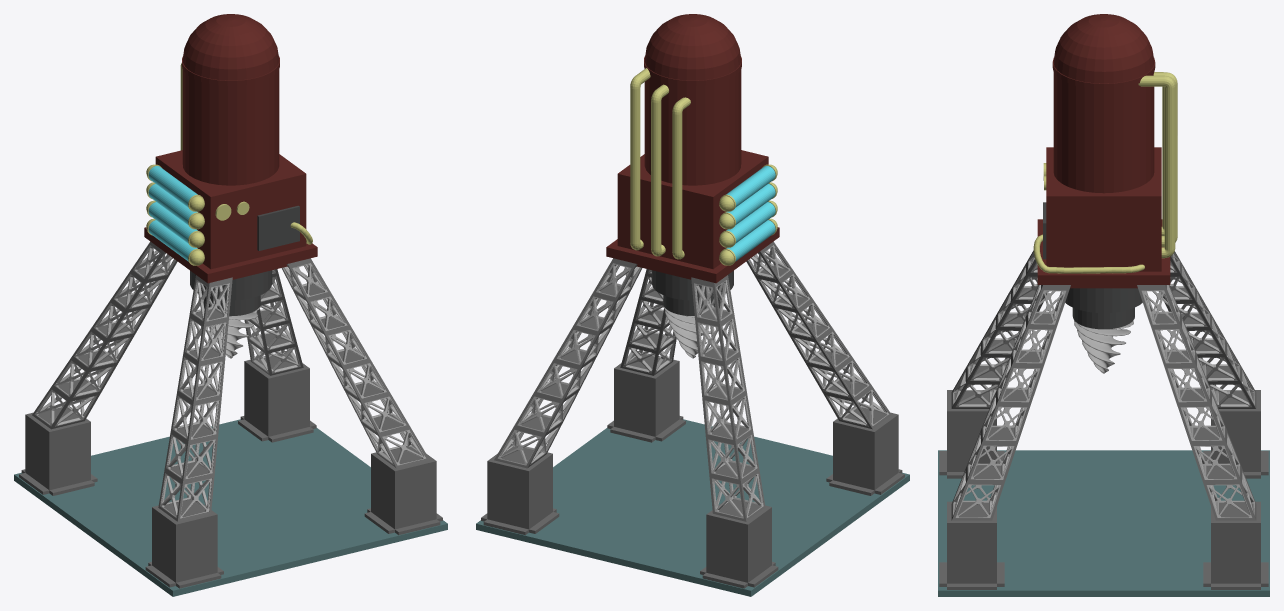
The model's file is ExtracteurFixe.fbx.
3 views of the same model, side by side, from view 1: azimuth 30°, elevation 25°; view 2: azimuth 150°, elevation 25°; view 3: azimuth 270°, elevation 25° (orthographic). The views are drawn at different scales.
Visible parts, largest first — view 1: Soutien, Plateau, Armature, Tank, Corp, Bombones, panneau, Piston-1, Foret; view 2: Soutien, Plateau, Armature, Tank, Corp, Tuyaux.001, Bombones, Piston-1, Foret; view 3: Plateau, Soutien, Tank, Armature, Corp, Tuyaux.001, Piston-1, Foret, Piston-2, Cable.
Boxes of the visible parts, x1,y1,x2,y2 form: Soutien: (19, 241, 442, 588); Plateau: (14, 419, 447, 596); Armature: (35, 245, 426, 518); Tank: (182, 14, 279, 185); Corp: (144, 150, 317, 283); Bombones: (146, 164, 204, 265); panneau: (257, 205, 299, 250); Piston-1: (190, 270, 272, 300); Foret: (209, 306, 260, 358); Soutien: (481, 241, 904, 588); Plateau: (476, 419, 909, 596); Armature: (497, 245, 888, 518); Tank: (644, 14, 741, 185); Corp: (606, 150, 779, 283); Tuyaux.001: (630, 68, 690, 259); Bombones: (719, 164, 777, 265); Piston-1: (651, 270, 733, 300); Foret: (663, 306, 710, 358); Plateau: (938, 450, 1269, 596); Soutien: (939, 250, 1268, 589); Tank: (1052, 14, 1155, 193); Armature: (953, 252, 1254, 517); Corp: (1037, 147, 1170, 288); Tuyaux.001: (1138, 72, 1177, 258); Piston-1: (1065, 288, 1142, 313); Foret: (1074, 320, 1133, 373); Piston-2: (1072, 307, 1134, 329); Cable: (1033, 234, 1144, 273).
Bounding box in the file's own units: 399 × 673 × 399.
